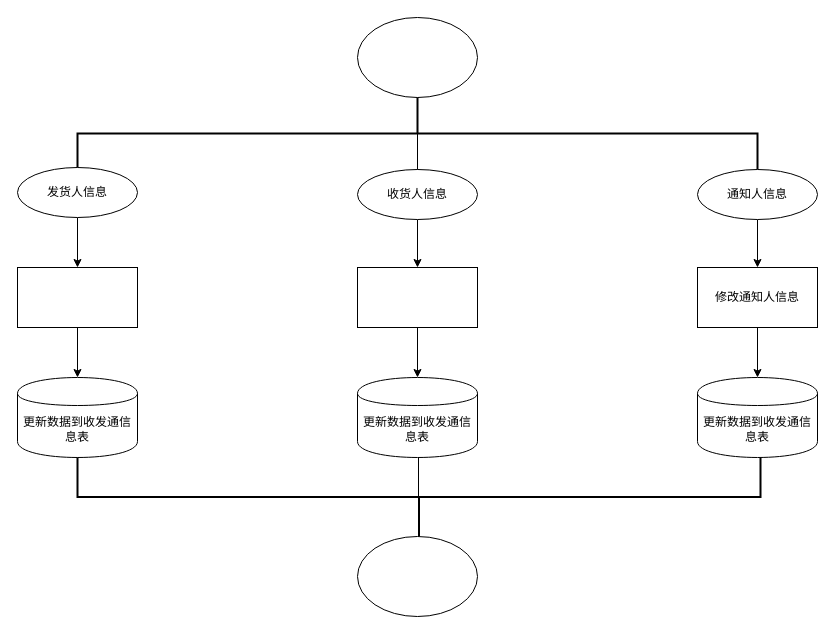
The diagram is 835 pixels wide and 634 high, and some of its shapes have lost their labels. The shapes that lost their labels are listed below. From the top down, each one's centre as x and y in pixels, then its label:
the point at 417,57: 开始
the point at 77,297: 修改发货人信息
the point at 417,297: 修改收货人信息
the point at 417,576: 结束
